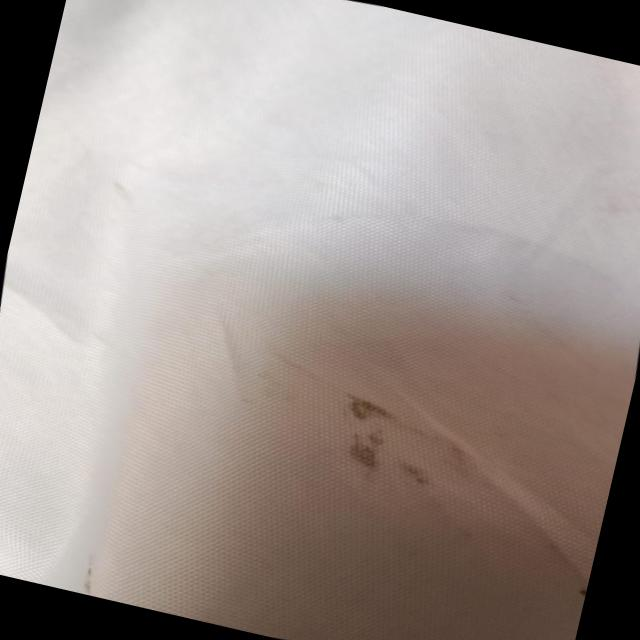stain: (320, 382, 488, 520), (66, 552, 126, 602), (566, 576, 588, 604)
